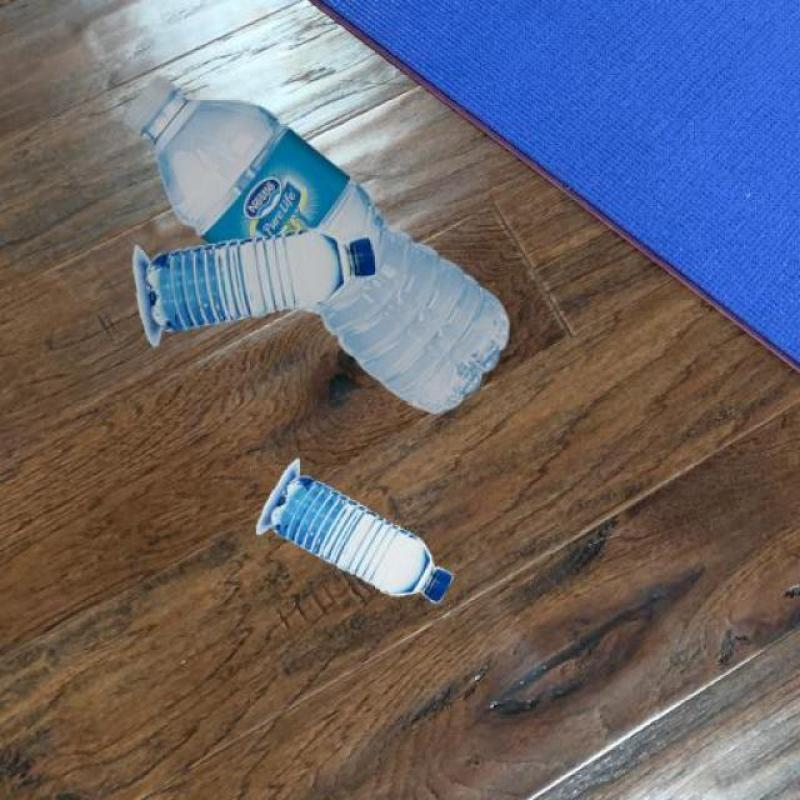botella: (119, 71, 517, 418), (152, 226, 378, 338), (270, 474, 456, 606)
